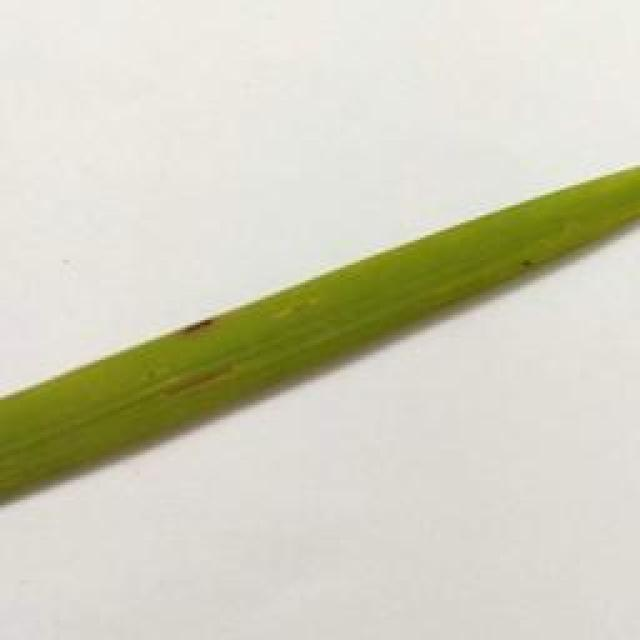Brown_Spot: (157, 377, 238, 392), (178, 315, 222, 335), (520, 252, 536, 275)
